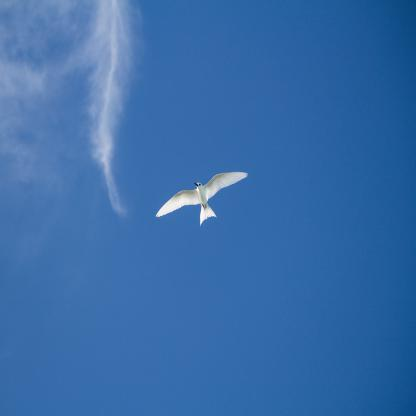bird: (156, 172, 249, 225)
